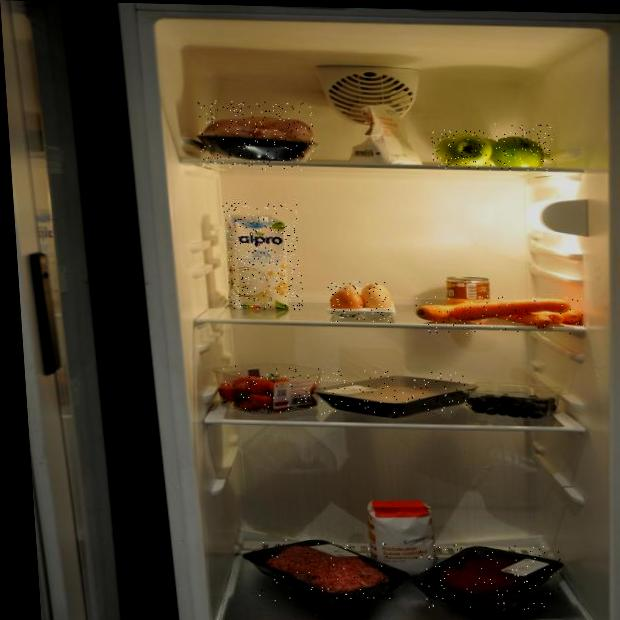apple: (493, 123, 555, 172), (430, 129, 494, 171)
carrots: (415, 294, 585, 338)
chicken: (197, 100, 316, 171)
eggs: (327, 281, 391, 324)
meat: (415, 543, 564, 611), (252, 539, 397, 604), (325, 370, 468, 415)
milk: (222, 203, 304, 310)
tomatoes: (221, 365, 328, 415)
